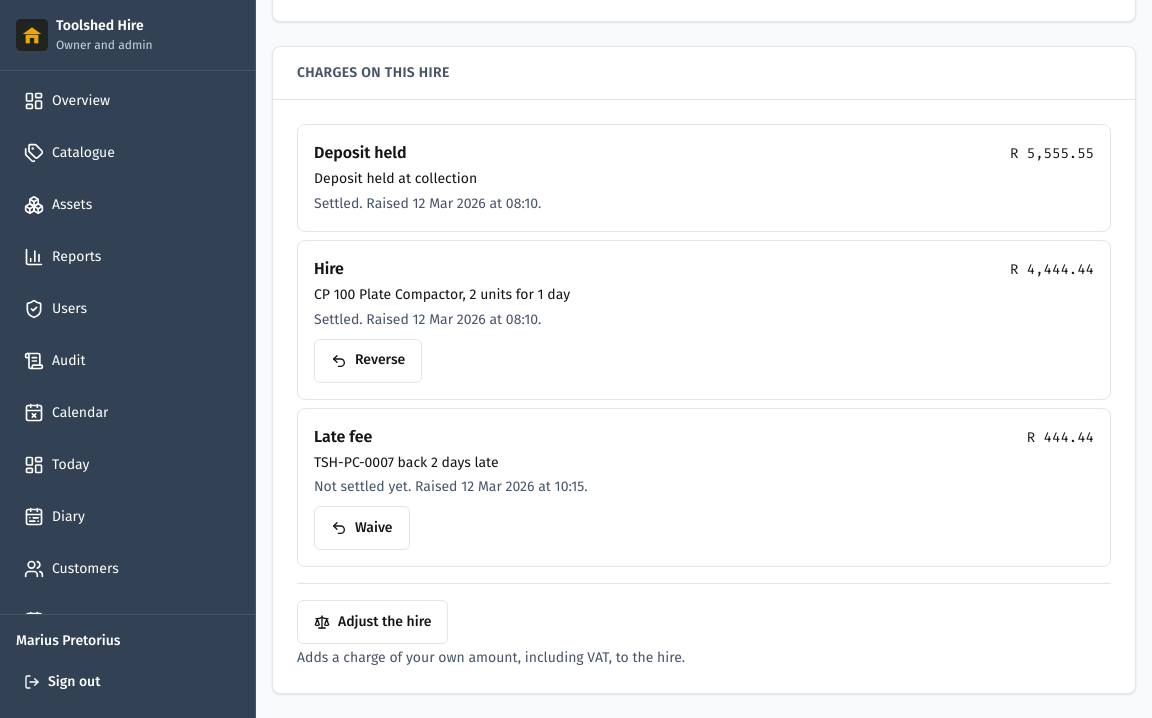
Test case: a reversal › shows the server sentence for a 409
(page scrolled)
Expected: the list named "Charges on " is shown, [297,124,1111,567]
Click the button "Reverse": [368, 361] box [314,339,422,383]
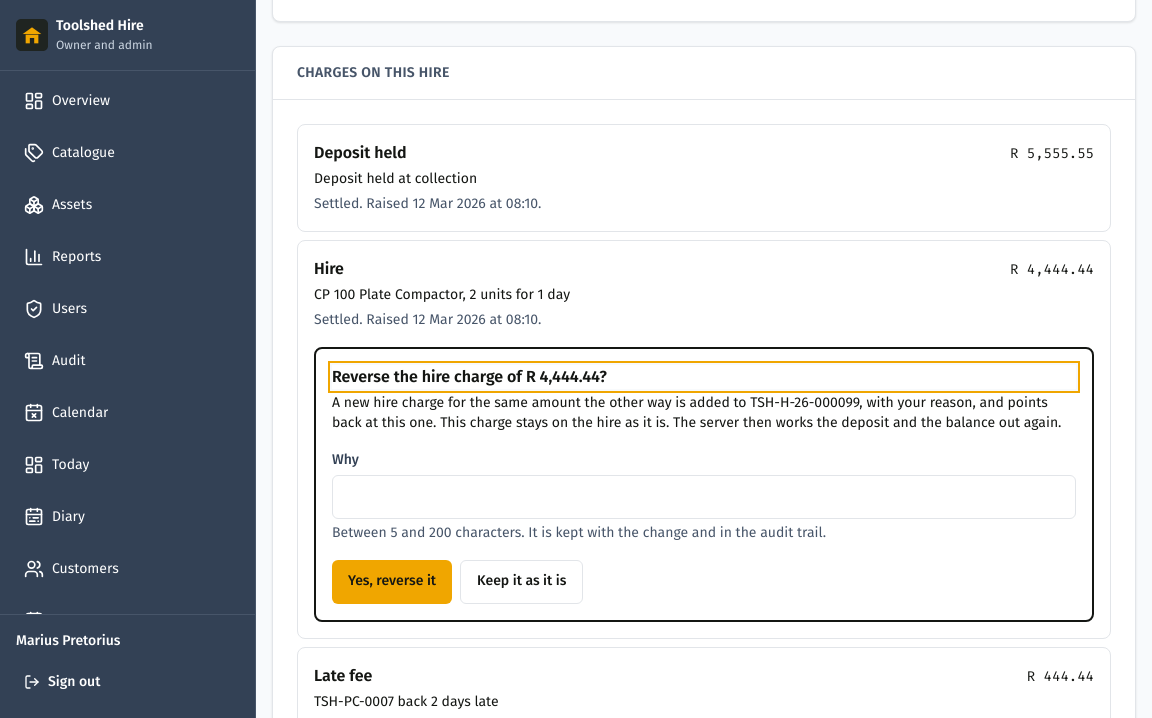
In the field labelled "Why": [704, 497] box [332,475,1076,519], type "Charged twice for the same day"
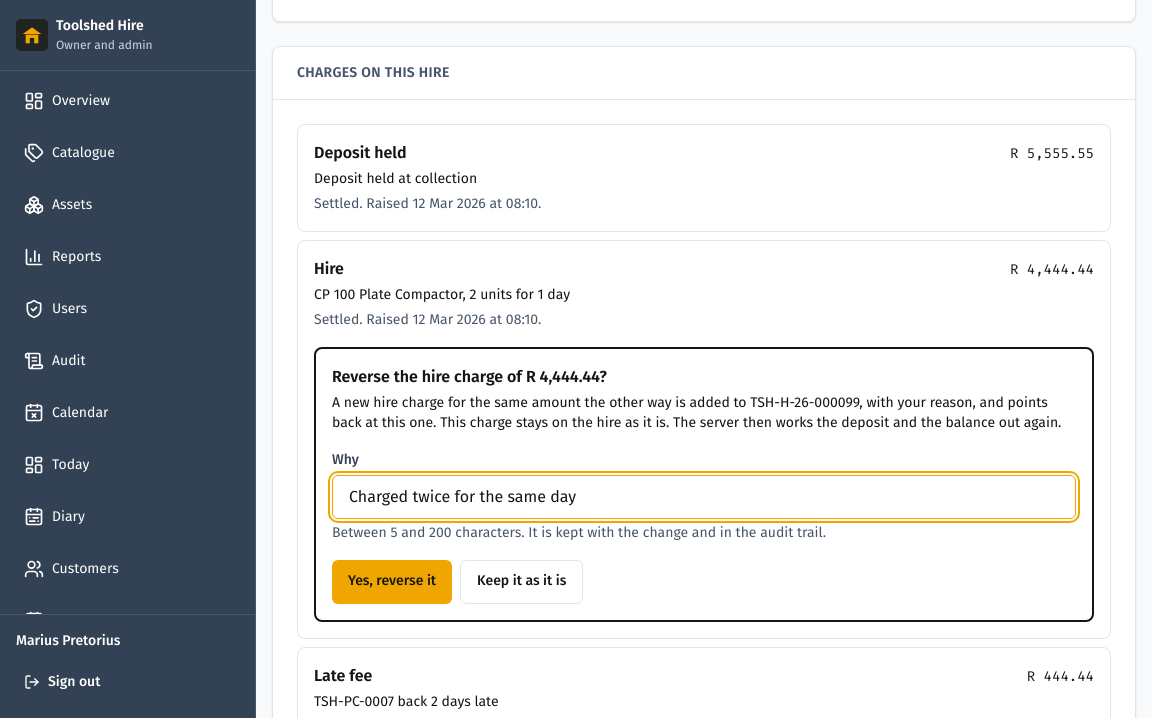
Click the button "Yes, reverse it": [392, 582] box [332,560,452,604]
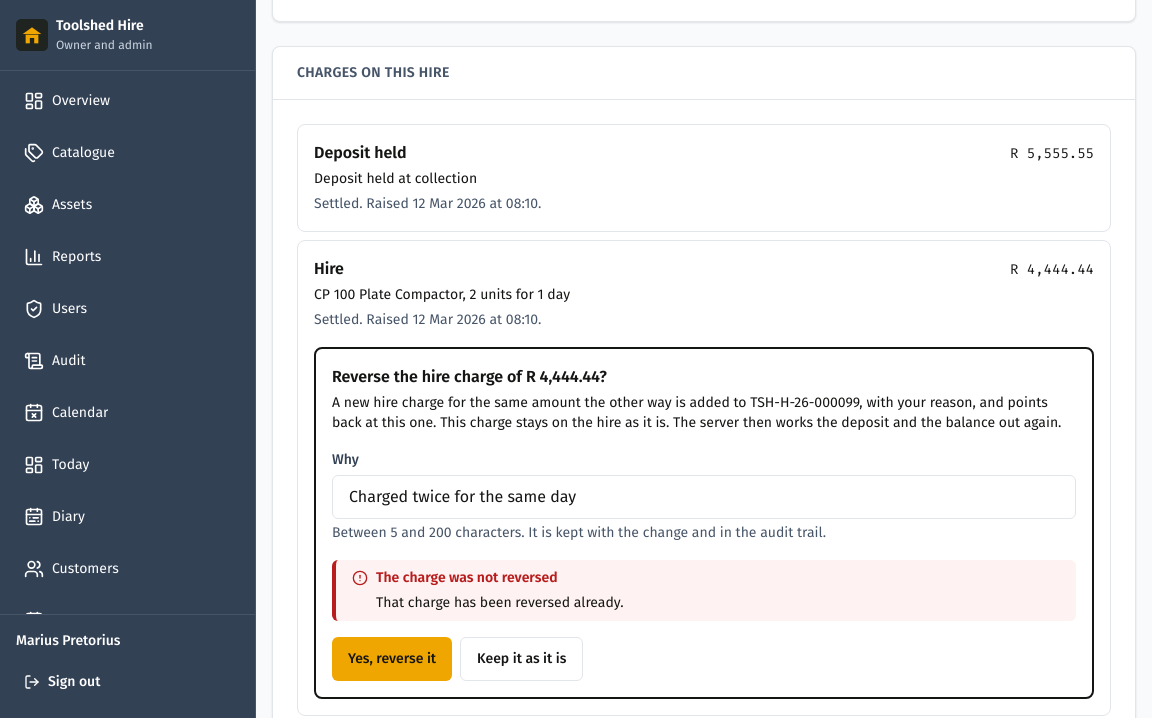
Now the message shows "The charge was not reversed", box [376,569,558,586]
Now the message shows "That charge has been reversed already.", box [376,594,624,611]
